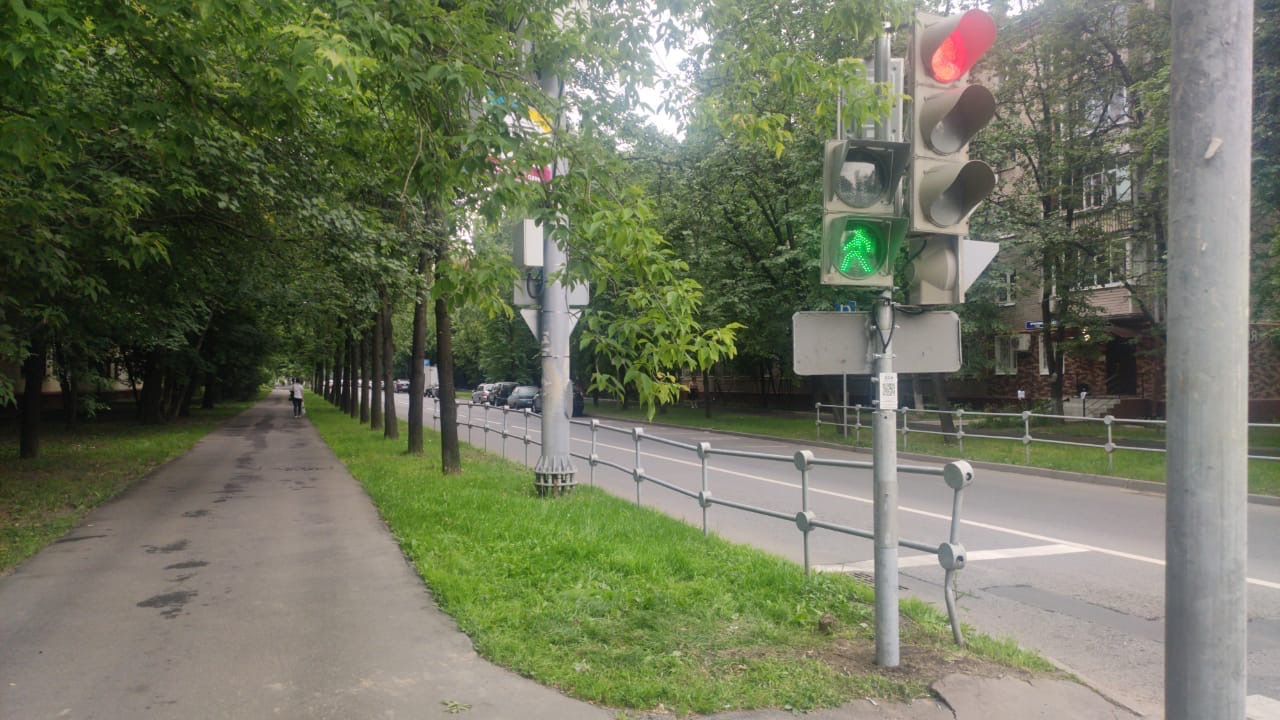tl: (890, 24, 988, 242), (823, 135, 903, 293)
